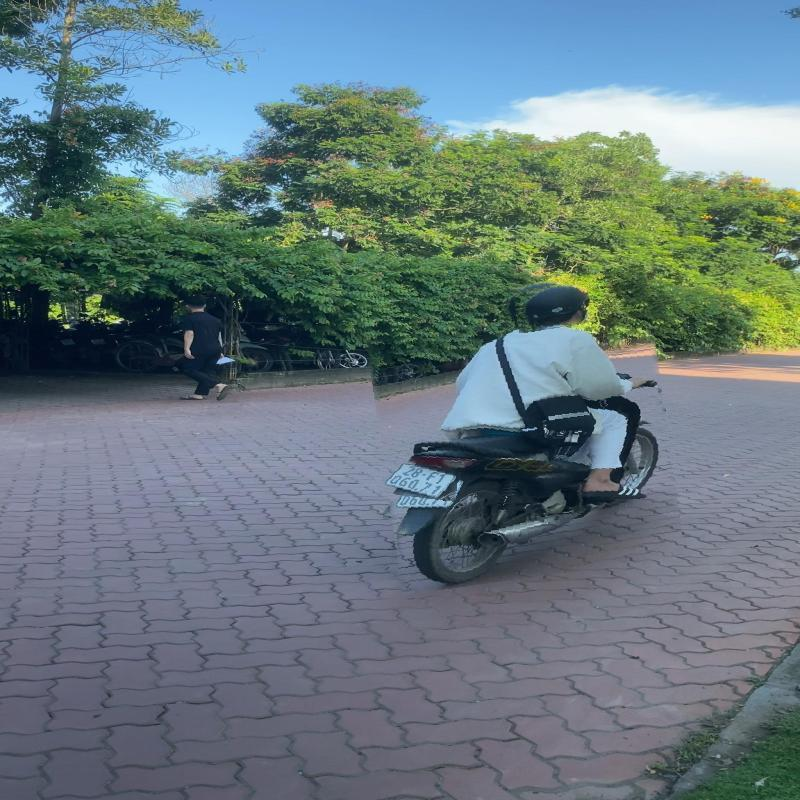helmet: (514, 282, 596, 330)
licenseplate: (382, 462, 458, 500)
motorcyclist: (372, 276, 676, 586)
